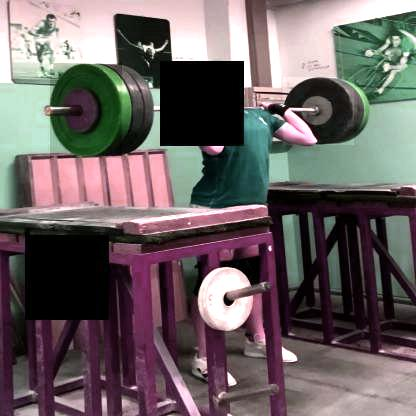barbell: (50, 64, 122, 158), (283, 78, 354, 145)
